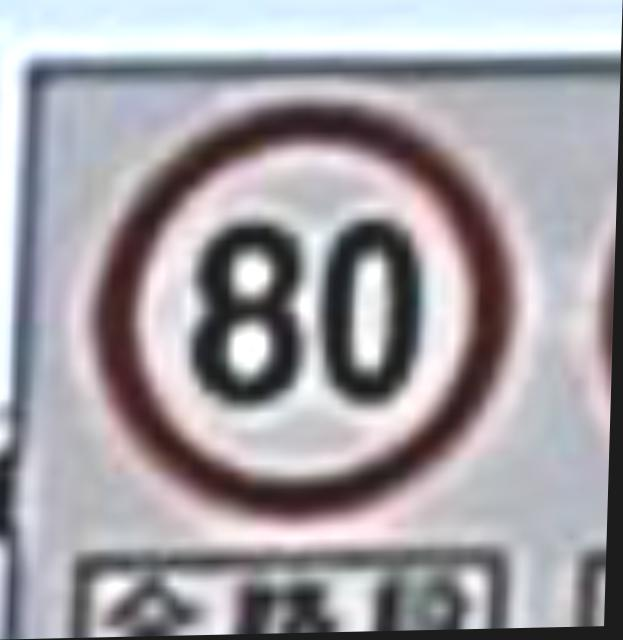limit80: (71, 96, 529, 506)
